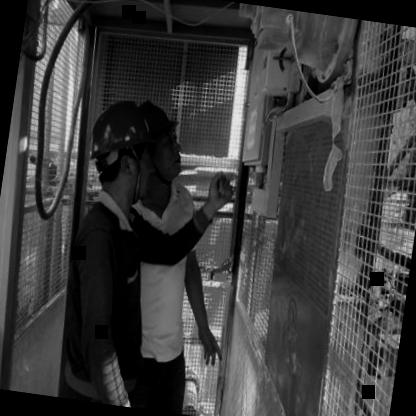helmet: (84, 95, 162, 202), (123, 99, 191, 196)
